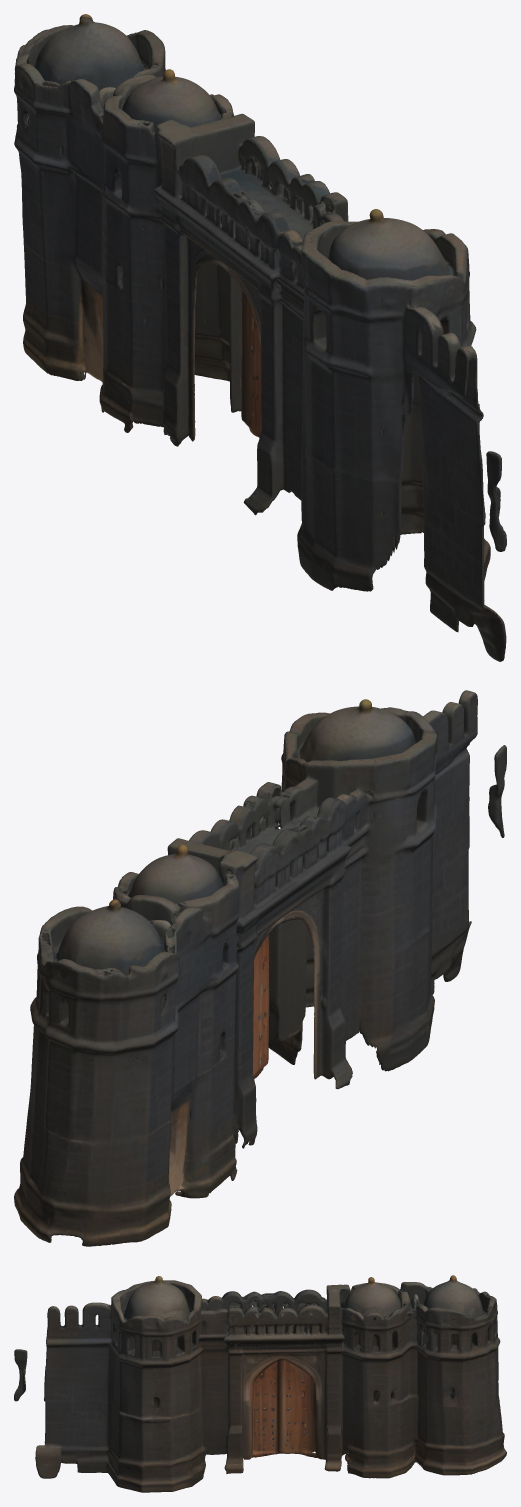
Rendered from shaniwar_wada.glb.
3 renders of one model, top to bottom at view 1: azimuth 30°, elevation 25°; view 2: azimuth 150°, elevation 25°; view 3: azimuth 270°, elevation 25°, orthographic. The views are drawn at different scales.
Visible parts, largest first — view 1: tripo_node_43ff61bc-ee66-4618-a19d-0f87a041be18; view 2: tripo_node_43ff61bc-ee66-4618-a19d-0f87a041be18; view 3: tripo_node_43ff61bc-ee66-4618-a19d-0f87a041be18.
Part boxes in pixels (x1,y1,x2,y2): tripo_node_43ff61bc-ee66-4618-a19d-0f87a041be18: (14,14,506,661); tripo_node_43ff61bc-ee66-4618-a19d-0f87a041be18: (14,690,506,1246); tripo_node_43ff61bc-ee66-4618-a19d-0f87a041be18: (14,1275,506,1492).
Bounding box in the file's own units: 0.2117 × 0.4453 × 1.
1 material, 1 textured.
